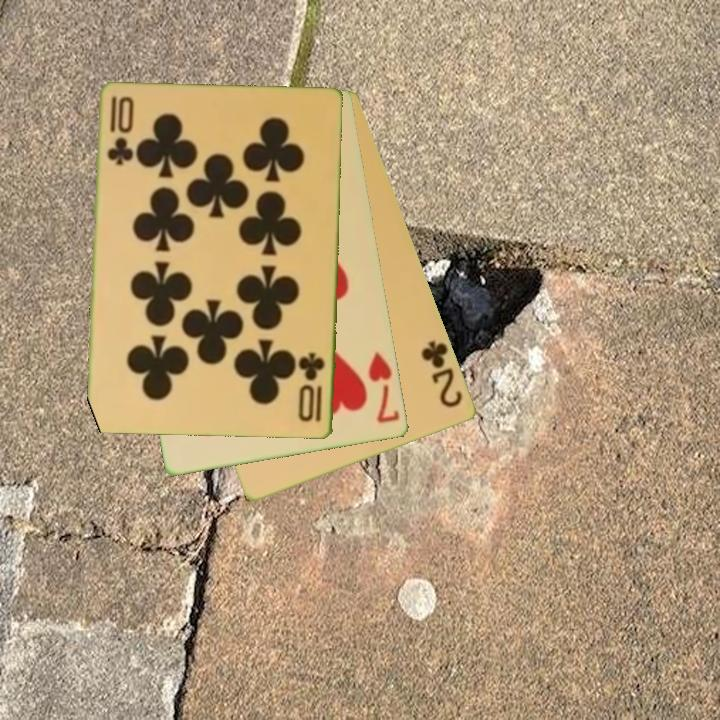10c: (296, 349, 329, 426), (104, 93, 132, 168)
2c: (418, 337, 466, 411)
7h: (365, 349, 403, 427)
